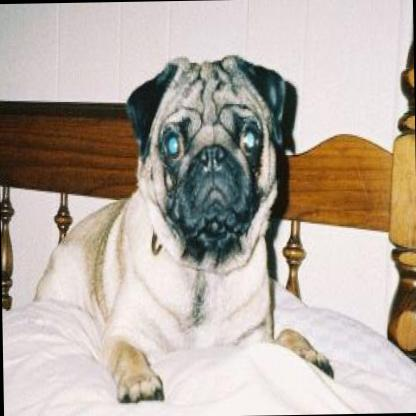pug: (36, 50, 336, 416)
